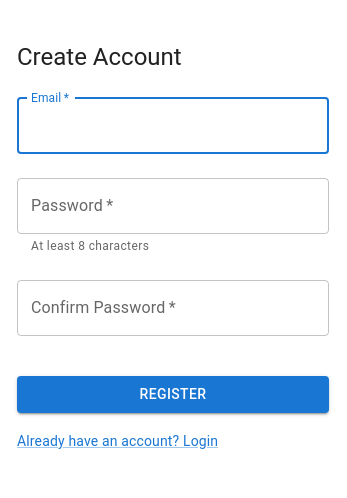
Test: RegisterPage › shows error when passwords do not match on submit
The width and height of the screenshot is (347, 498).
Type "test@example.com" into the field labelled "Email *" at (173, 126), box [17,98,329,154]
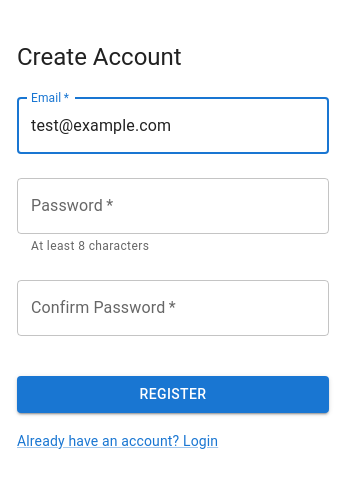
Type "password123" into the password field labelled "Password *" at (173, 206), box [17,178,329,234]
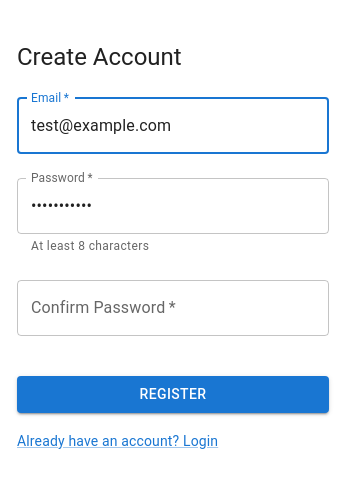
Type "different" into the password field labelled "Confirm Password *" at (173, 308), box [17,280,329,336]
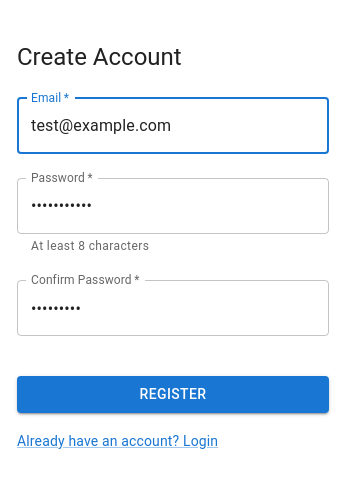
Click the button "Register" at (173, 395), box [17,376,329,413]
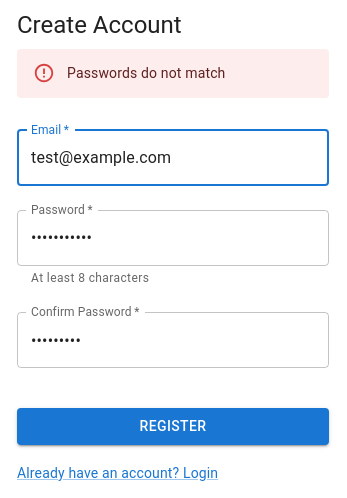
Expected: the text "Passwords do not match" is shown, [67,66,226,82]
